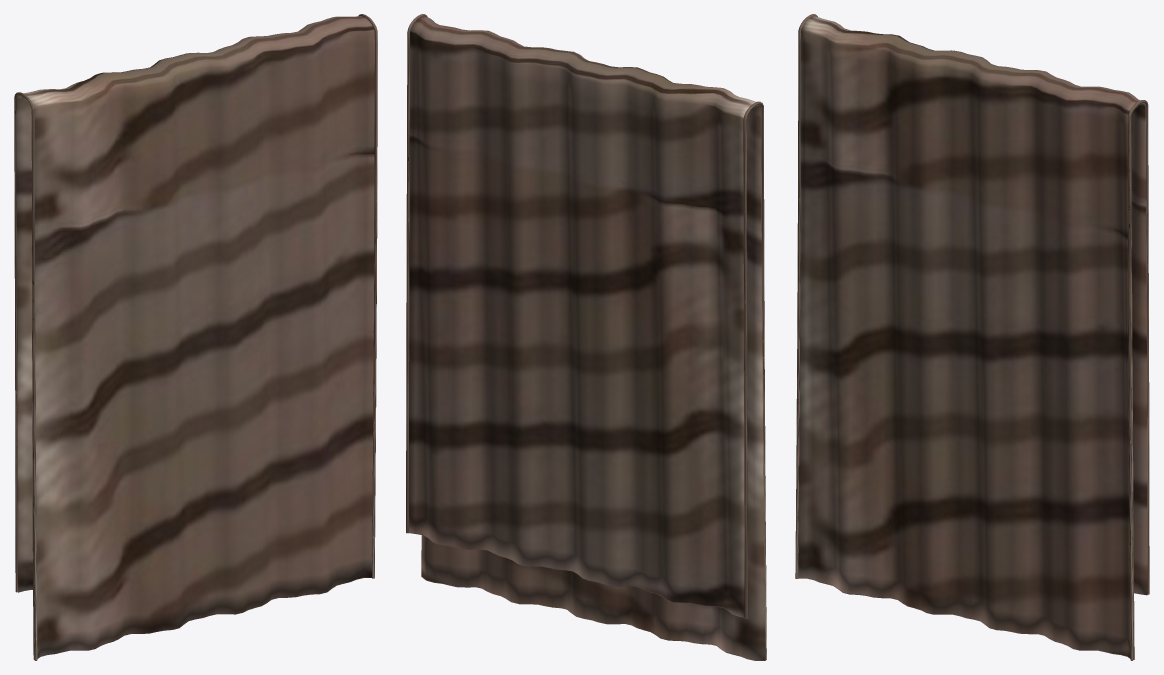
The model's file is counter_items__oven_towel.glb.
3 renders of one model, left to right at view 1: azimuth 30°, elevation 25°; view 2: azimuth 150°, elevation 25°; view 3: azimuth 330°, elevation 25°, orthographic.
Parts seen in each view (by area): view 1: body; view 2: body; view 3: body.
Boxes of the visible parts, x1,y1,x2,y2 form: body: (14,14,377,660); body: (406,14,766,660); body: (795,14,1149,660).
Bounding box in the file's own units: 0.2596 × 0.4064 × 0.0328.
Materials: 1 (1 with a texture image).
